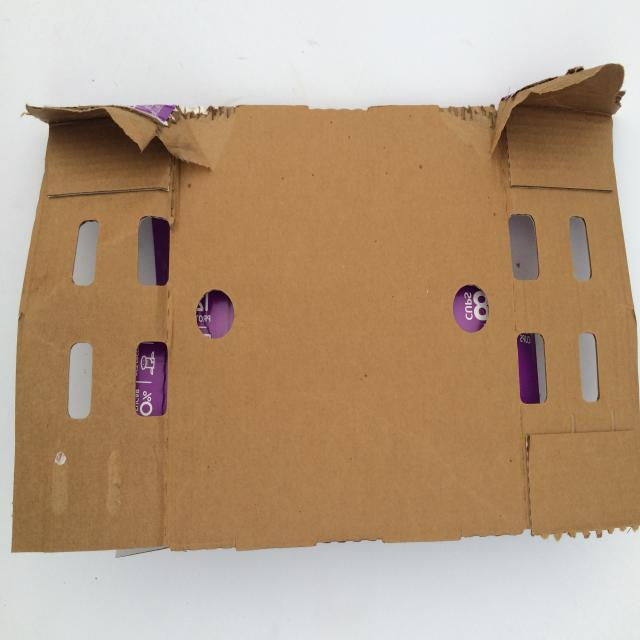cardboard: (12, 61, 640, 554)
